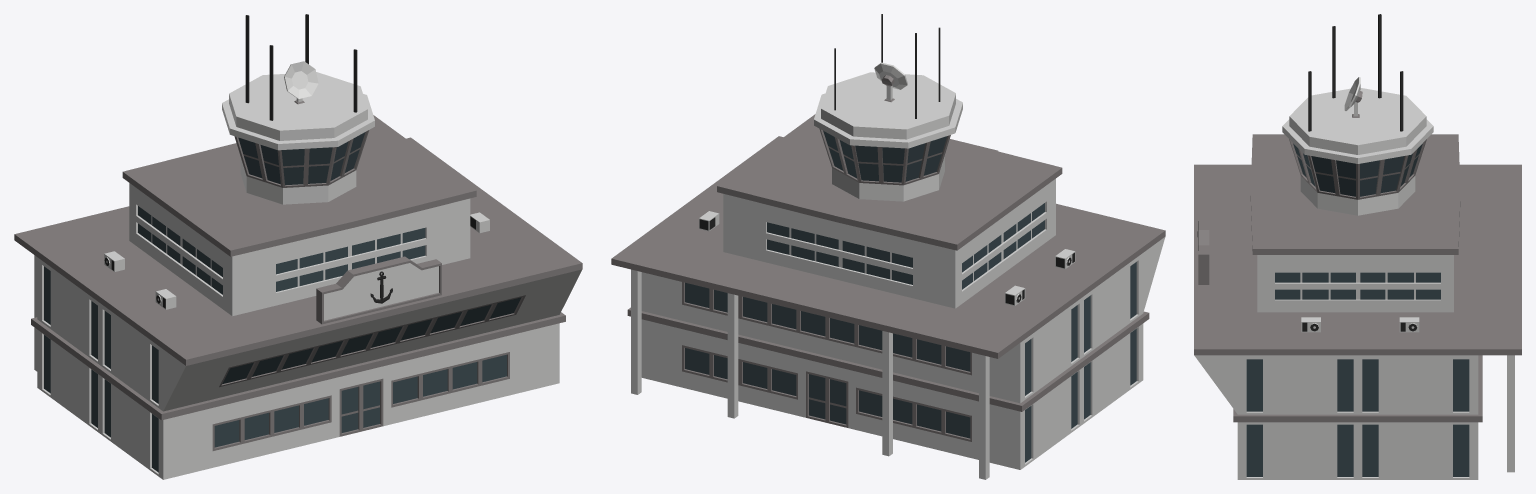
File: buildings_building-port-sea.fbx
3 views of the same model, side by side, from view 1: azimuth 30°, elevation 25°; view 2: azimuth 150°, elevation 25°; view 3: azimuth 270°, elevation 25° (orthographic). The views are drawn at different scales.
Visible parts, largest first — view 1: buildings_building_port_sea; view 2: buildings_building_port_sea; view 3: buildings_building_port_sea.
Boxes of the visible parts, x1,y1,x2,y2 form: buildings_building_port_sea: (14, 14, 582, 479); buildings_building_port_sea: (611, 14, 1165, 479); buildings_building_port_sea: (1194, 14, 1521, 479).
Size of the model in its own units: 200 by 175 by 147.
